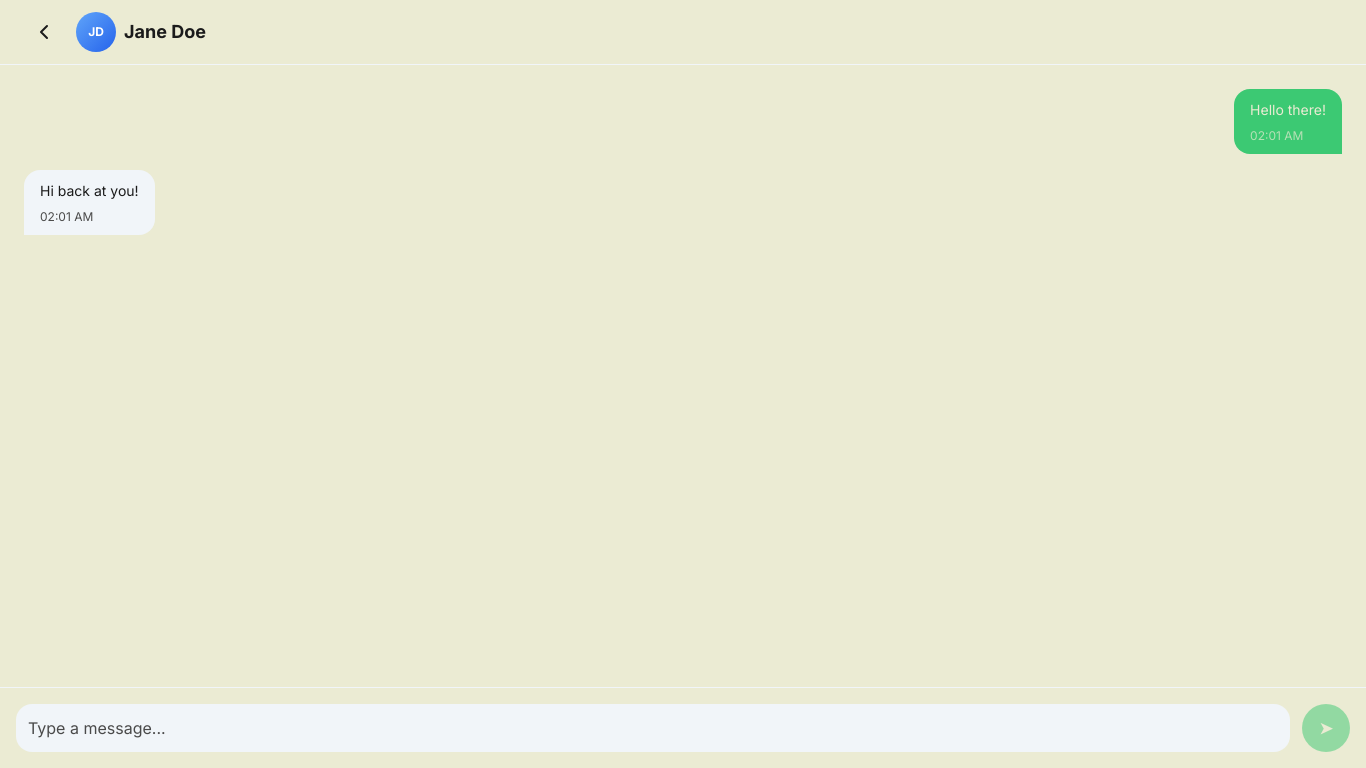
Test: MessagesPage › message input and send › send button is enabled when input has text
Type "Hello" into the text box with placeholder "Type a message..." at (653,728), box [16,704,1290,752]
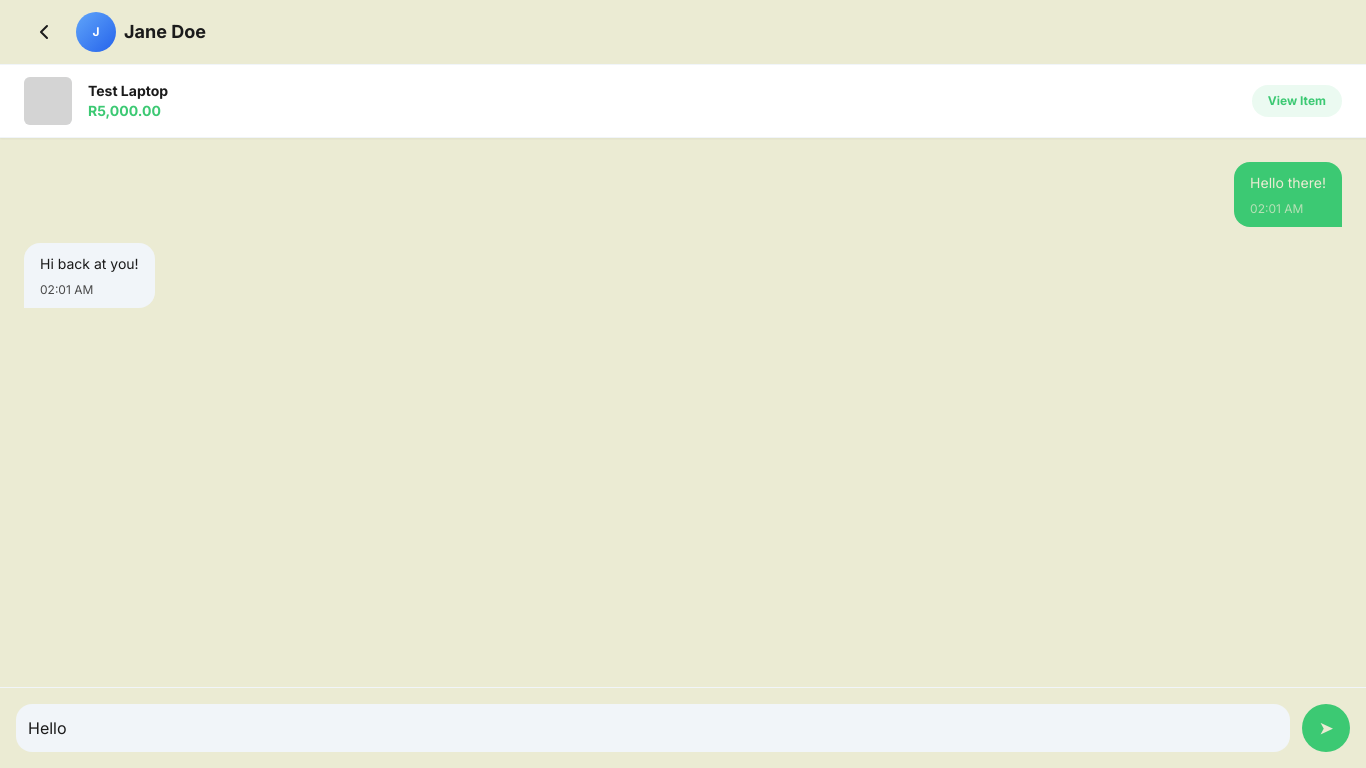
Result: the button titled "Send message" is enabled at [1302,704,1350,752]
